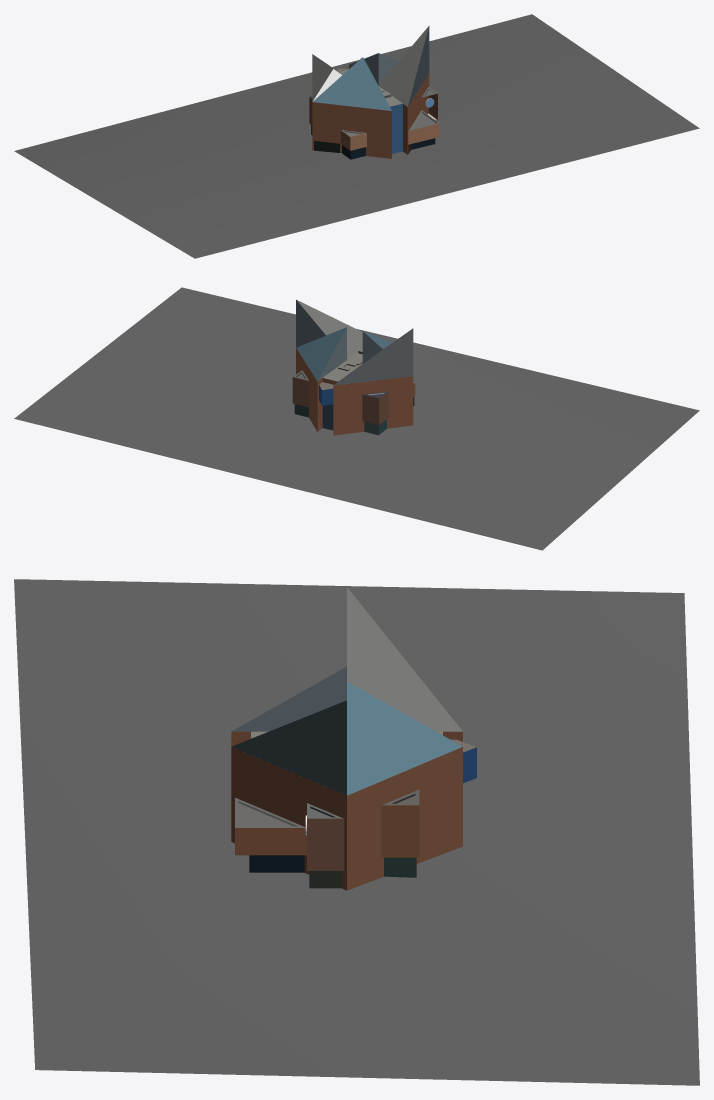
The model's file is tennessee-aquarium-river-journey.glb.
3 views of the same model, one above another, from view 1: azimuth 30°, elevation 25°; view 2: azimuth 150°, elevation 25°; view 3: azimuth 270°, elevation 25° (orthographic). The views are drawn at different scales.
Visible parts, largest first — view 1: LOD0; view 2: LOD0; view 3: LOD0.
Part boxes in pixels (x1,y1,x2,y2): LOD0: (14, 14, 699, 258); LOD0: (14, 287, 699, 550); LOD0: (14, 579, 699, 1085).
Size of what is drawn, in the model's own units: 278 by 54.44 by 159.
Materials: 2 (2 with a texture image).
